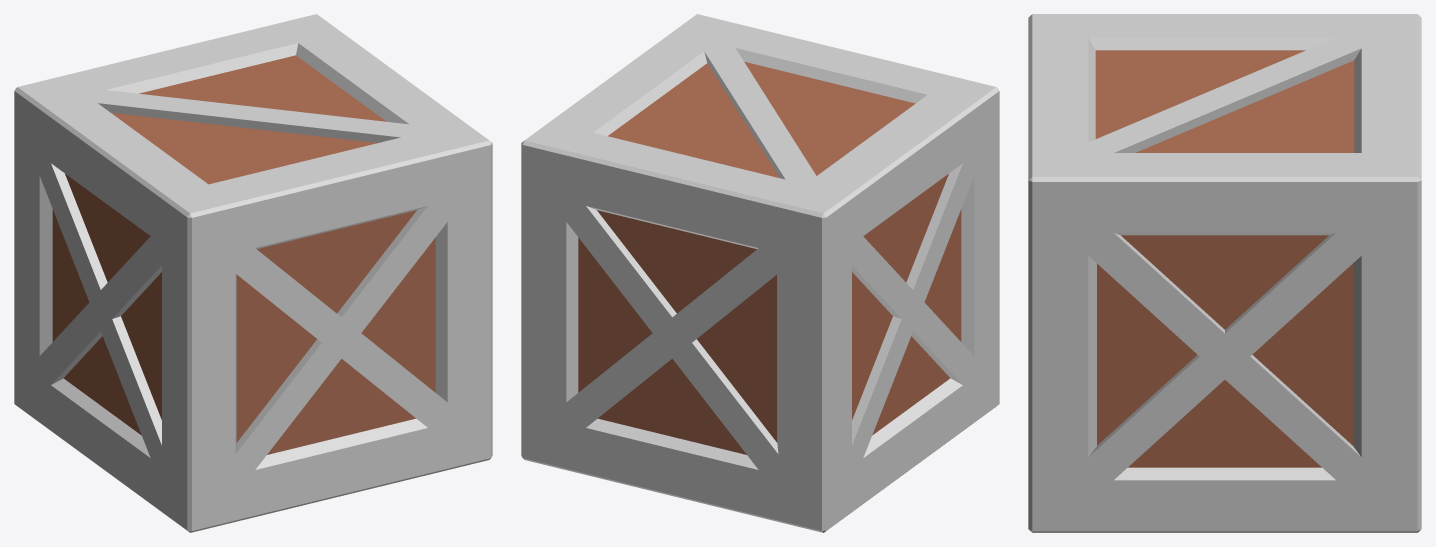
The model's file is Crate.fbx.
3 renders of one model, left to right at view 1: azimuth 30°, elevation 25°; view 2: azimuth 150°, elevation 25°; view 3: azimuth 270°, elevation 25°, orthographic. The views are drawn at different scales.
Visible parts, largest first — view 1: Crate; view 2: Crate; view 3: Crate.
Boxes of the visible parts, x1,y1,x2,y2 form: Crate: [14, 14, 492, 532]; Crate: [521, 14, 999, 532]; Crate: [1028, 14, 1421, 532].
Bounding box in the file's own units: 200 × 200 × 200.
